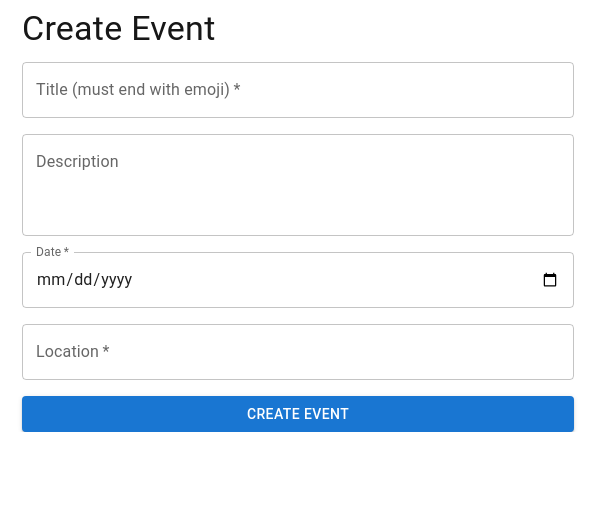
Test case: CreateEvent Page › displays validation error if title does not end with an emoji
In the field labelled "Title (must end with emoji) *": (298, 90) [22, 62, 574, 118], type "NoEmoji"
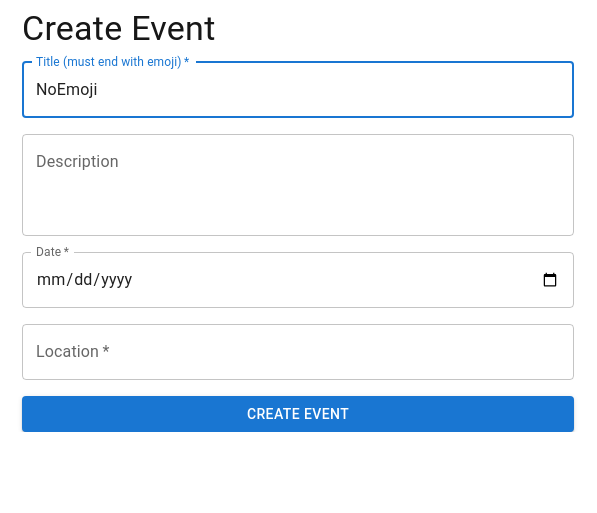
In the date field labelled "Date *": (298, 280) [22, 252, 574, 308], type "2025-09-03"
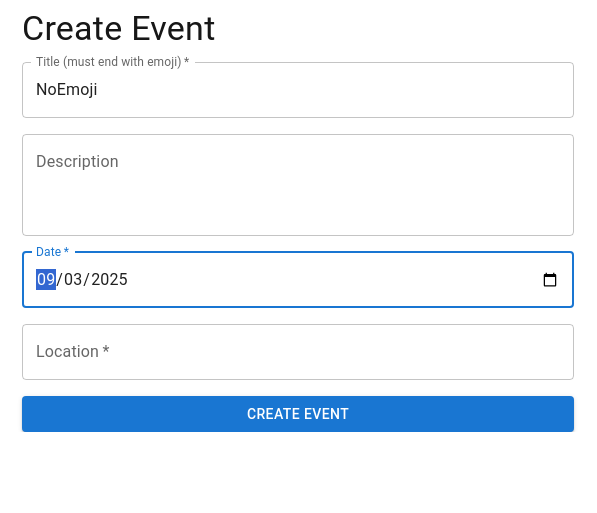
In the field labelled "Location *": (298, 352) [22, 324, 574, 380], type "LONDON"
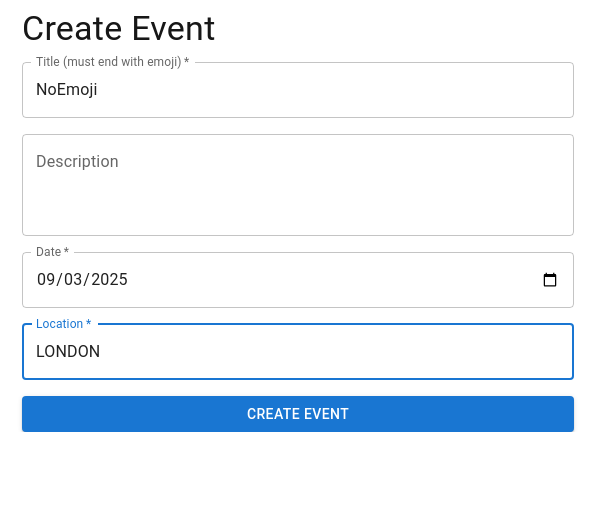
Click the button "Create Event": click(298, 414) [22, 396, 574, 432]
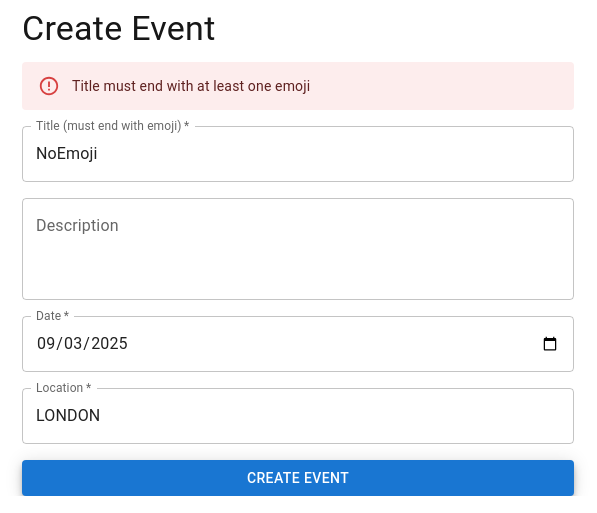
Result: the text "Title must end with at least one emoji" is shown at [72, 78, 310, 94]
